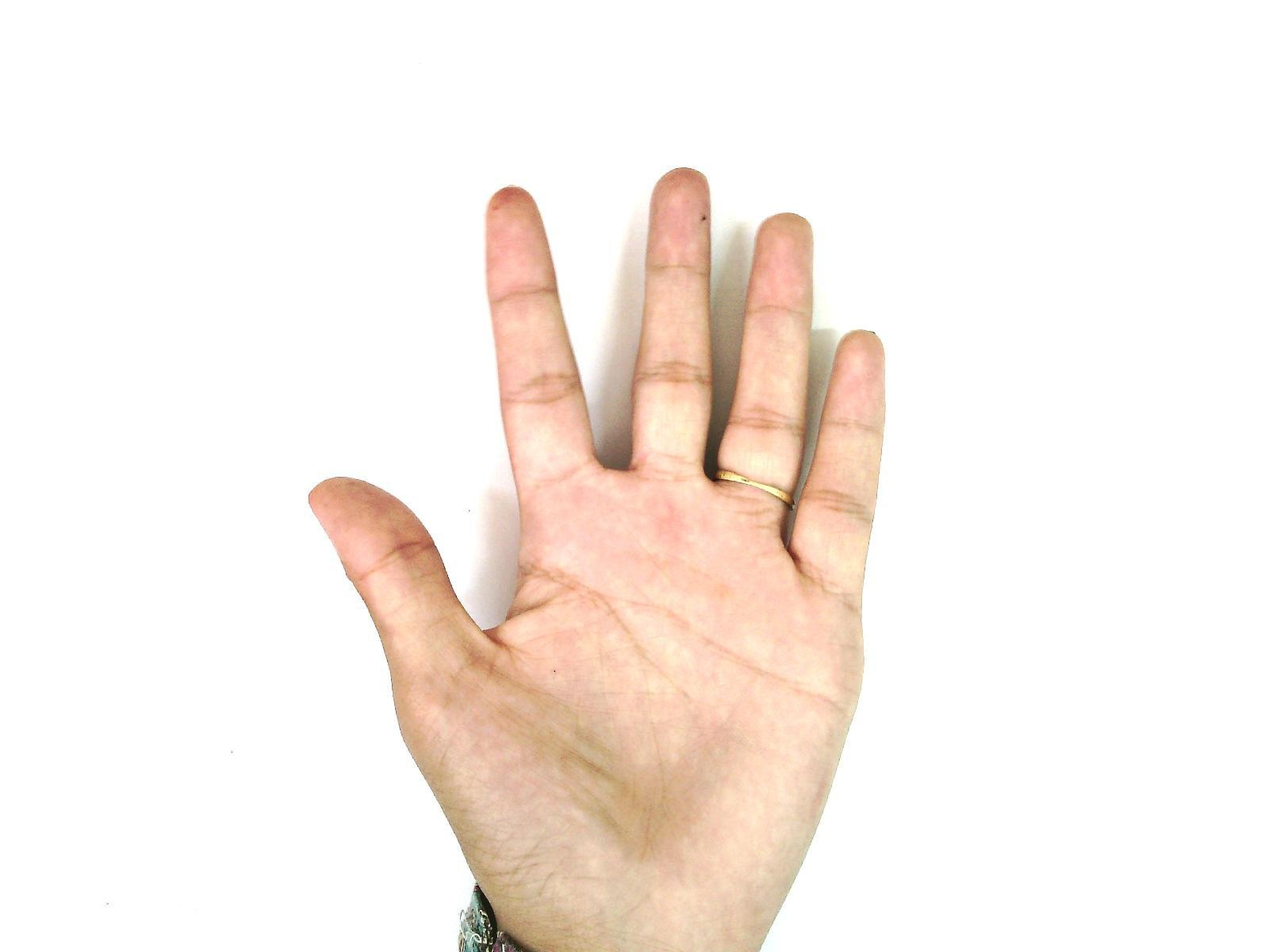open_palm: (307, 166, 890, 951)
